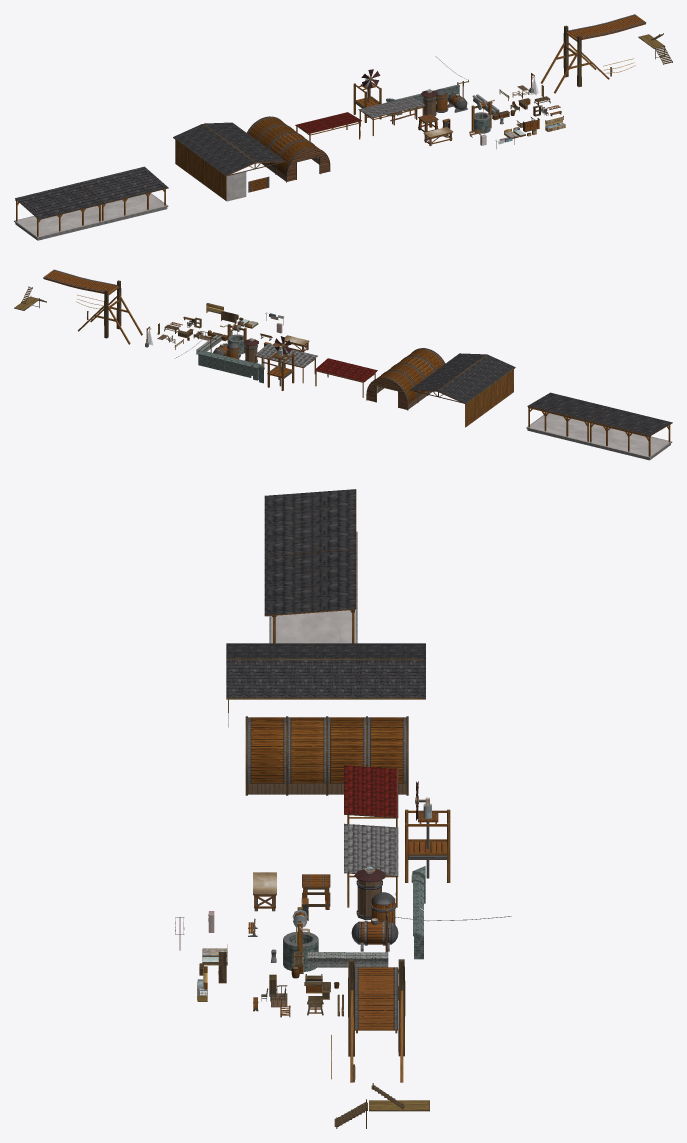
File: LowPoly_Objeler.FBX
3 views of the same model, one above another, from view 1: azimuth 30°, elevation 25°; view 2: azimuth 150°, elevation 25°; view 3: azimuth 270°, elevation 25° (orthographic). The views are drawn at different scales.
Parts seen in each view (by area): view 1: Pazar_Yeri, Hangar_1, Hangar_2, Hngr_YanDuvar, Kopru_Ayak_1, Kopru_Zemin, garaj_2, garaj_1, Su_Kuyusu, Hngr_OnDuvar_Yan, Su_Kulesi; view 2: Pazar_Yeri, Hangar_1, Hangar_2, Hngr_YanDuvar, Kopru_Ayak_1, garaj_1, Kopru_Zemin, garaj_2, Su_Kulesi, Deniz_Duvar_1, Deniz_Duvar_2, Su_Kuyusu (+1 smaller); view 3: Pazar_Yeri, Hangar_1, Hangar_2, garaj_1, Kopru_Zemin, garaj_2, Su_Kulesi, Kopru_Ayak_1, Su_Kuyusu, Tank_1, Tank_3, duvarlitle__2.
Boxes of the visible parts, left/top/right/bottom form: Pazar_Yeri: left=14, top=166, right=168, bottom=240; Hangar_1: left=173, top=122, right=285, bottom=176; Hangar_2: left=247, top=116, right=330, bottom=182; Hngr_YanDuvar: left=175, top=140, right=226, bottom=200; Kopru_Ayak_1: left=540, top=25, right=609, bottom=93; Kopru_Zemin: left=567, top=14, right=646, bottom=39; garaj_2: left=358, top=96, right=425, bottom=135; garaj_1: left=295, top=112, right=361, bottom=141; Su_Kuyusu: left=471, top=99, right=494, bottom=133; Hngr_OnDuvar_Yan: left=226, top=171, right=246, bottom=201; Su_Kulesi: left=353, top=75, right=381, bottom=122; Pazar_Yeri: left=526, top=392, right=672, bottom=460; Hangar_1: left=409, top=353, right=515, bottom=404; Hangar_2: left=366, top=348, right=445, bottom=410; Hngr_YanDuvar: left=465, top=369, right=513, bottom=427; Kopru_Ayak_1: left=78, top=280, right=142, bottom=344; garaj_1: left=314, top=358, right=377, bottom=397; Kopru_Zemin: left=43, top=269, right=117, bottom=293; garaj_2: left=254, top=343, right=317, bottom=383; Su_Kulesi: left=267, top=345, right=294, bottom=390; Deniz_Duvar_1: left=225, top=356, right=254, bottom=377; Deniz_Duvar_2: left=198, top=350, right=227, bottom=371; Su_Kuyusu: left=220, top=324, right=246, bottom=354; Pazar_Yeri: left=264, top=489, right=357, bottom=643; Hangar_1: left=226, top=643, right=425, bottom=699; Hangar_2: left=245, top=716, right=408, bottom=795; garaj_1: left=344, top=765, right=398, bottom=827; Kopru_Zemin: left=354, top=967, right=397, bottom=1033; garaj_2: left=344, top=823, right=398, bottom=907; Su_Kulesi: left=405, top=797, right=450, bottom=882; Kopru_Ayak_1: left=348, top=959, right=405, bottom=1082; Su_Kuyusu: left=283, top=907, right=318, bottom=971; Tank_1: left=351, top=918, right=398, bottom=951; Tank_3: left=354, top=867, right=385, bottom=919; duvarlitle__2: left=307, top=955, right=388, bottom=967.
Bounding box in the file's own units: 5863 × 496 × 1384.
